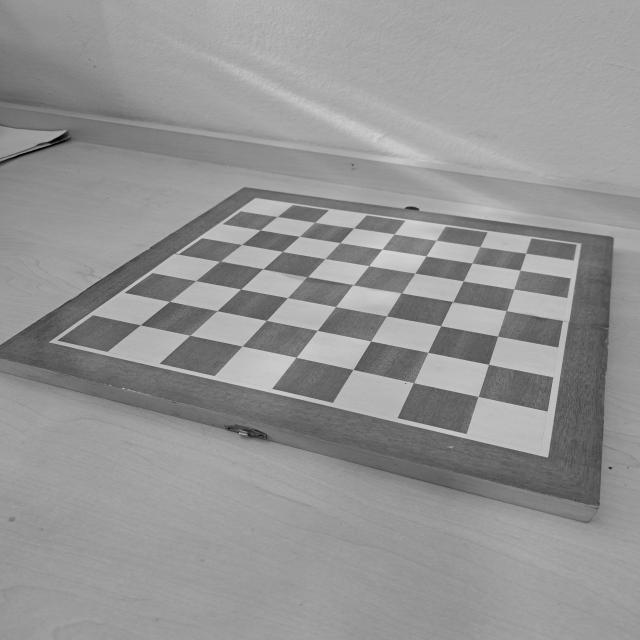chess-table-corners: (522, 438, 559, 466), (42, 328, 78, 350), (247, 193, 266, 206), (566, 240, 584, 252)
